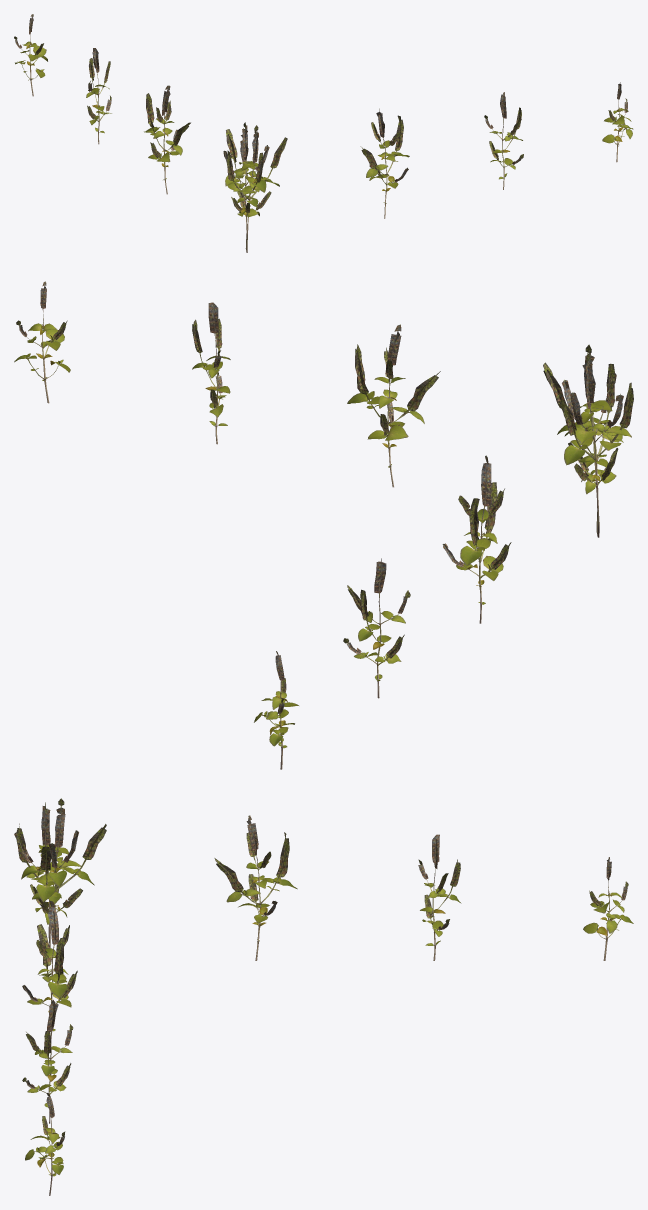
Rendered from temperate-shrub-cluster-lod0.glb.
3 renders of one model, top to bottom at view 1: azimuth 30°, elevation 25°; view 2: azimuth 150°, elevation 25°; view 3: azimuth 270°, elevation 25°, orthographic. The views are drawn at different scales.
Parts seen in each view (by area): view 1: shrub_03_a, shrub_03_a-crossed; view 2: shrub_03_a-crossed, shrub_03_a; view 3: shrub_03_a-crossed, shrub_03_a.
Boxes of the visible parts, bbox=[...] form: shrub_03_a: bbox=[226, 82, 633, 252]; shrub_03_a-crossed: bbox=[14, 14, 269, 252]; shrub_03_a-crossed: bbox=[254, 353, 631, 769]; shrub_03_a: bbox=[14, 281, 633, 536]; shrub_03_a-crossed: bbox=[16, 798, 633, 960]; shrub_03_a: bbox=[14, 802, 81, 1195].
Bounding box in the file's own units: 2.19 × 0.6445 × 2.19.
1 material, 1 textured.
